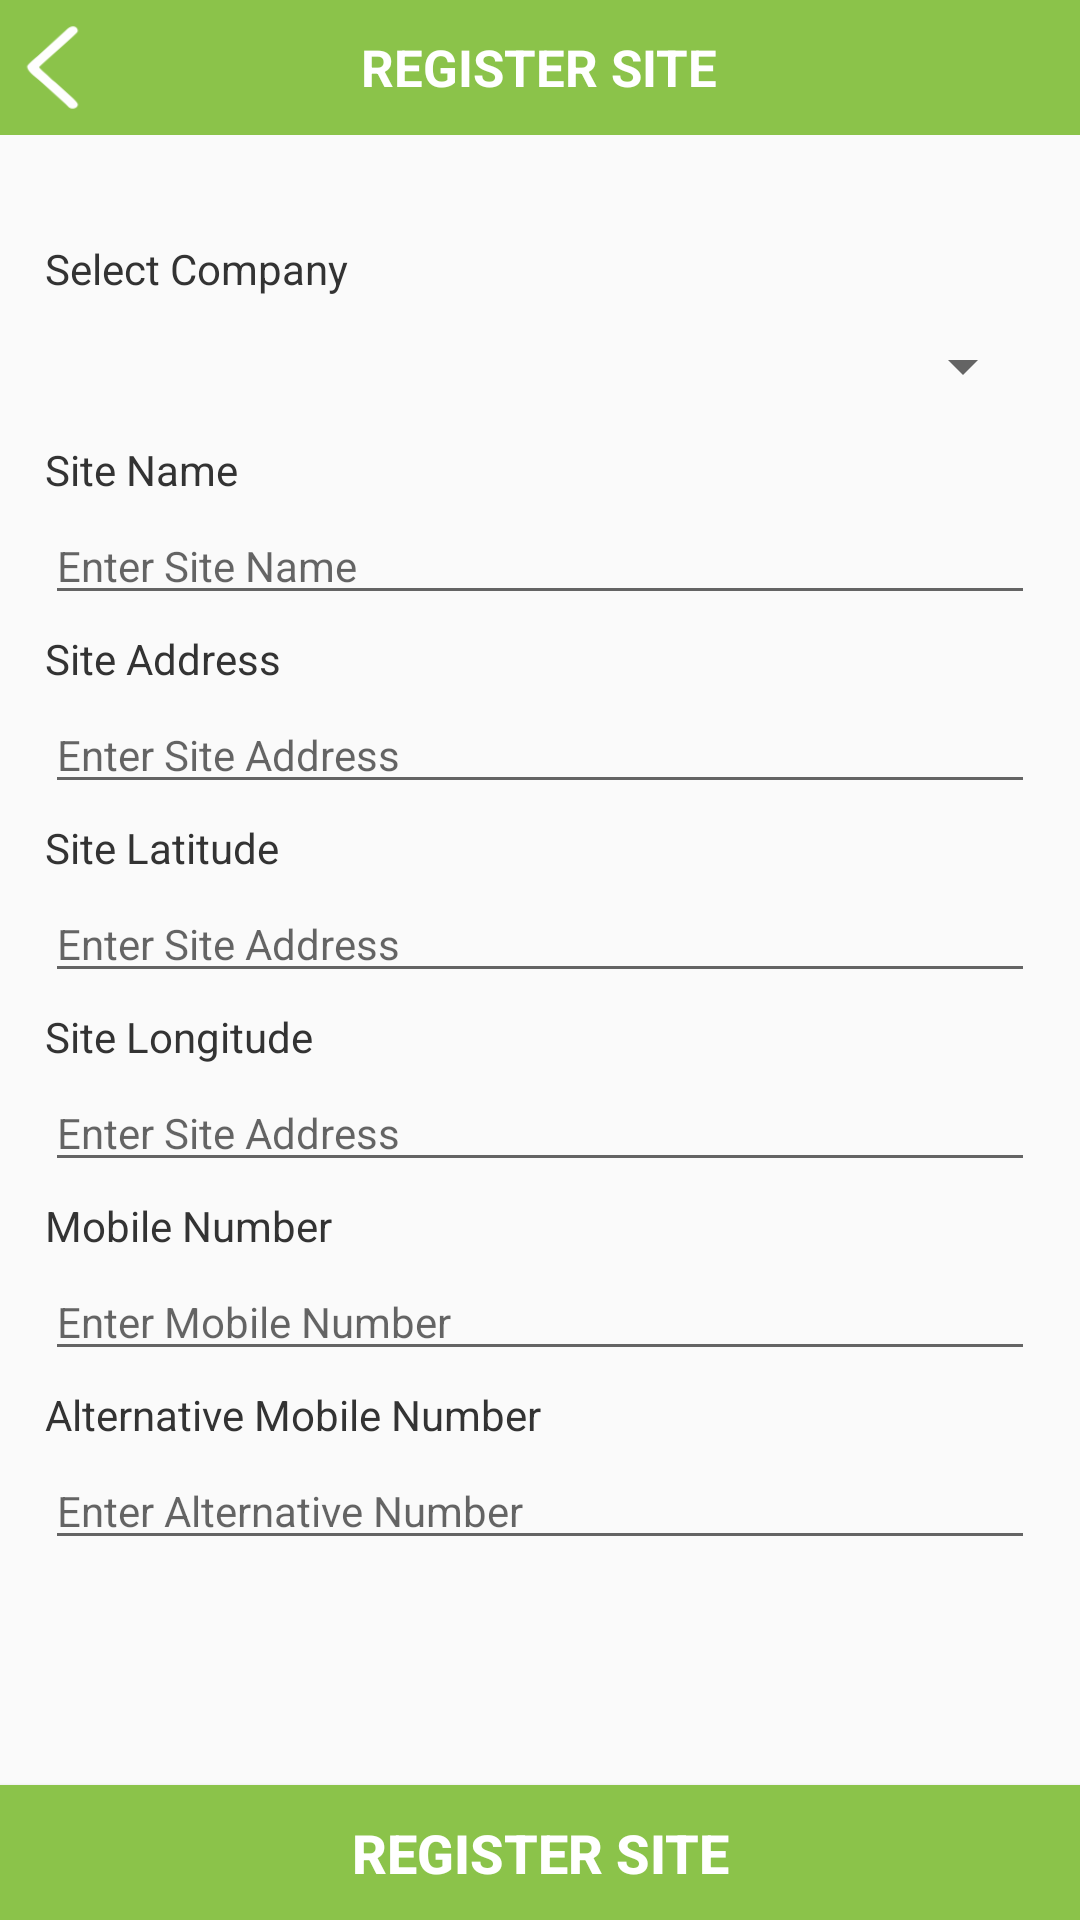

Icon bounding boxes for this 1080px x 1920px phone screenshot, format (x1, y1, x2, y2):
back arrow: (27, 26, 79, 109)
